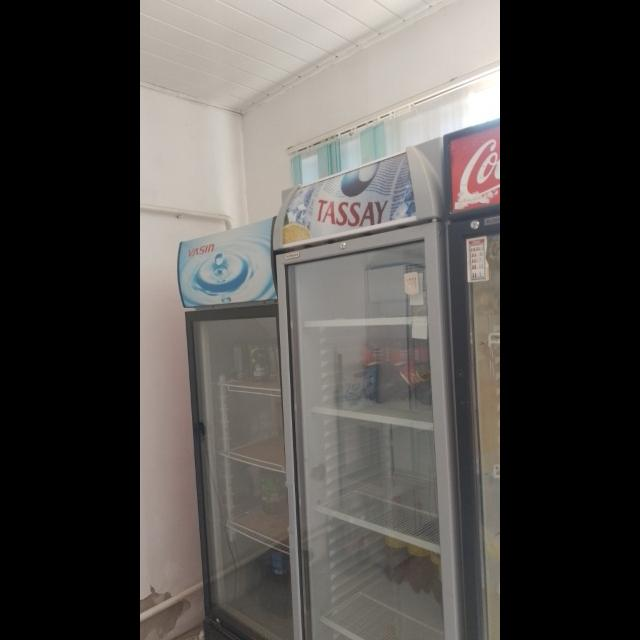Cooling-Display: (270, 135, 456, 639)
